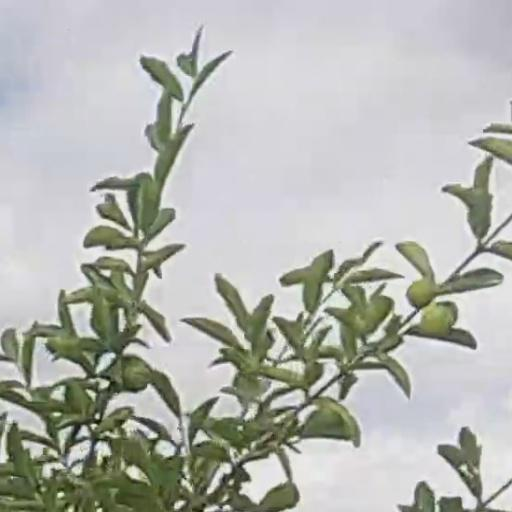acerola: (120, 359, 151, 390), (421, 306, 452, 333), (405, 278, 429, 302)
